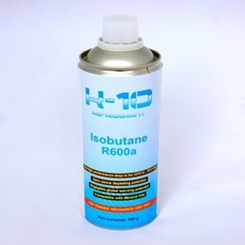Aerosol_cans: (76, 13, 166, 233)
